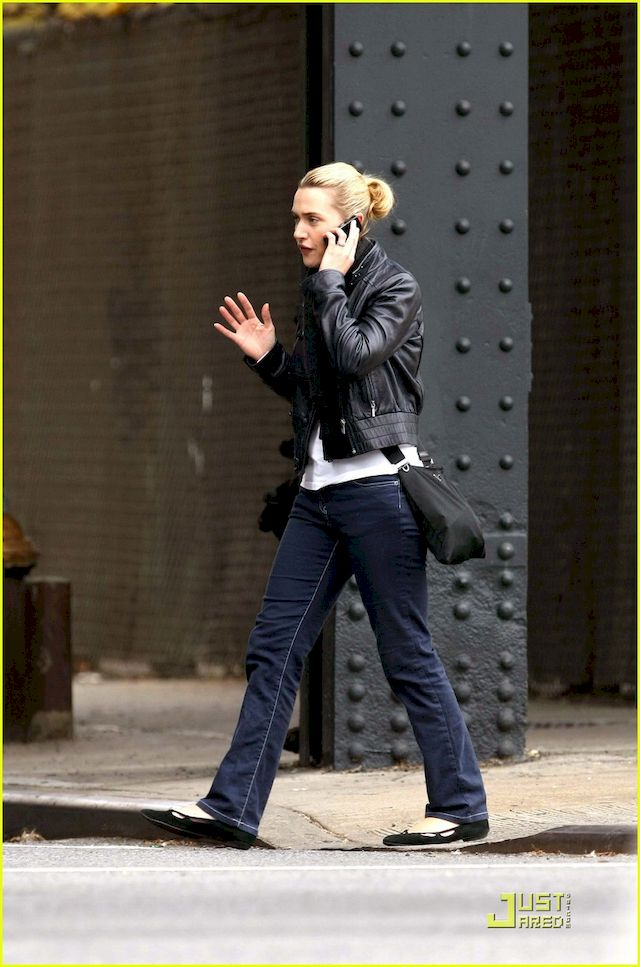phone: (325, 223, 367, 242)
talk: (289, 203, 367, 271)
